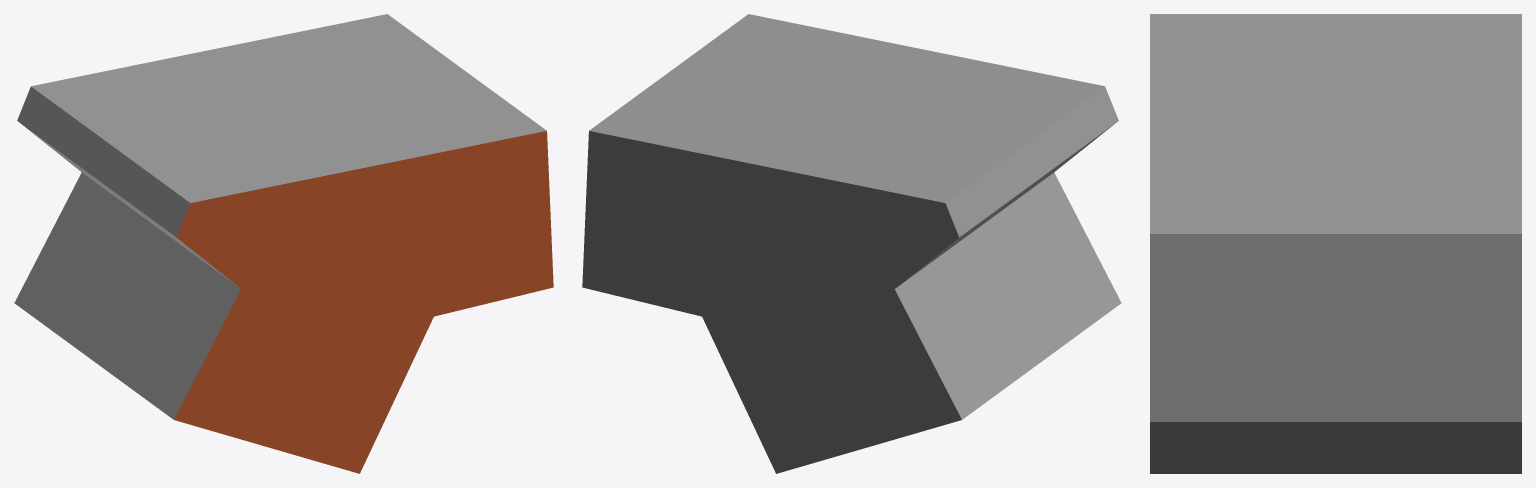
The model's file is construction_1313_assumed_A_Casa_h6m.obj.
The picture shows the model from 3 angles, left to right: view 1: azimuth 30°, elevation 25°; view 2: azimuth 150°, elevation 25°; view 3: azimuth 270°, elevation 25°; orthographic projection. The views are drawn at different scales.
Parts seen in each view (by area): view 1: construction_1313_assumed_A_Casa; view 2: construction_1313_assumed_A_Casa; view 3: construction_1313_assumed_A_Casa.
Boxes of the visible parts, left/top/right/bottom form: construction_1313_assumed_A_Casa: left=14, top=14, right=553, bottom=473; construction_1313_assumed_A_Casa: left=582, top=14, right=1121, bottom=473; construction_1313_assumed_A_Casa: left=1150, top=14, right=1521, bottom=473.
Size of the model in its own units: 8.24 by 6.47 by 6.
